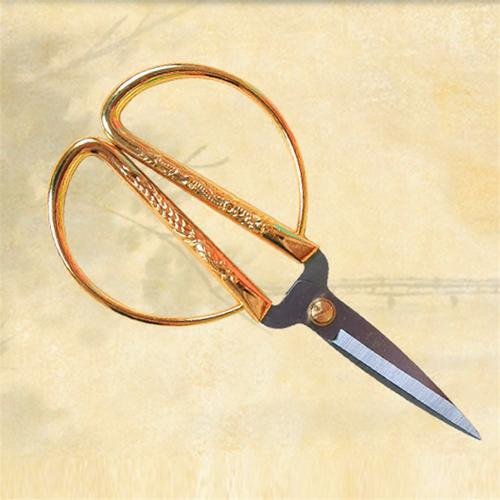scissor: (45, 62, 485, 443)
